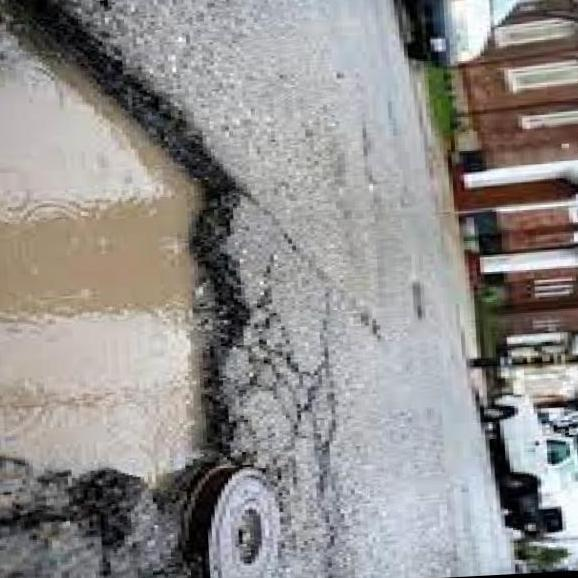pothole: (0, 0, 253, 514)
